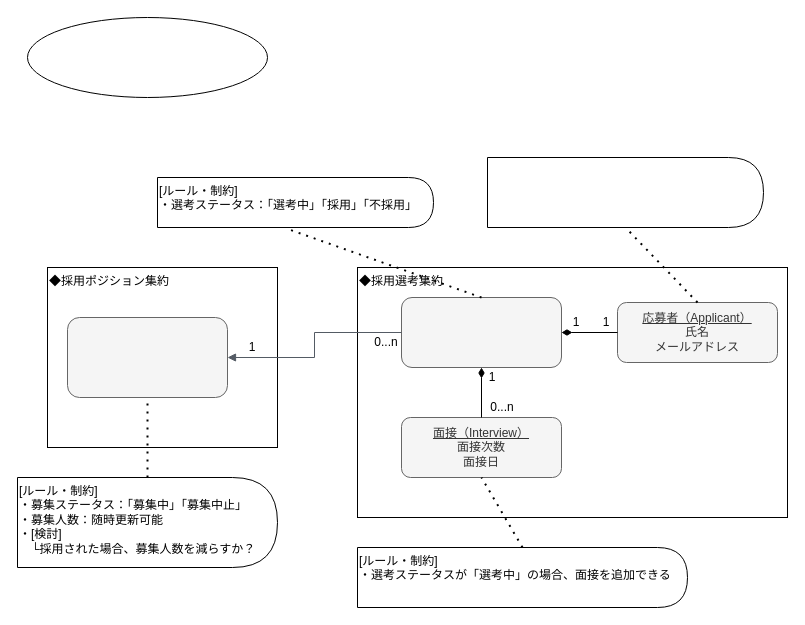
The diagram is 805 pixels wide and 625 high, and some of its shapes have lost their labels. The centre of each missing label's shape, as x and y in pixels:
[ルール・制約] ・必須項目：「氏名」「メールアドレス」 ・[検討] └「備考欄」があってもよいかも: pixel 625 192
ドメインモデル図: pixel 147 57
採用ポジション（Position） ポジション名 募集ステータス 募集人数: pixel 147 357
採用選考（Screening） 選考ステータス 応募日: pixel 481 332
